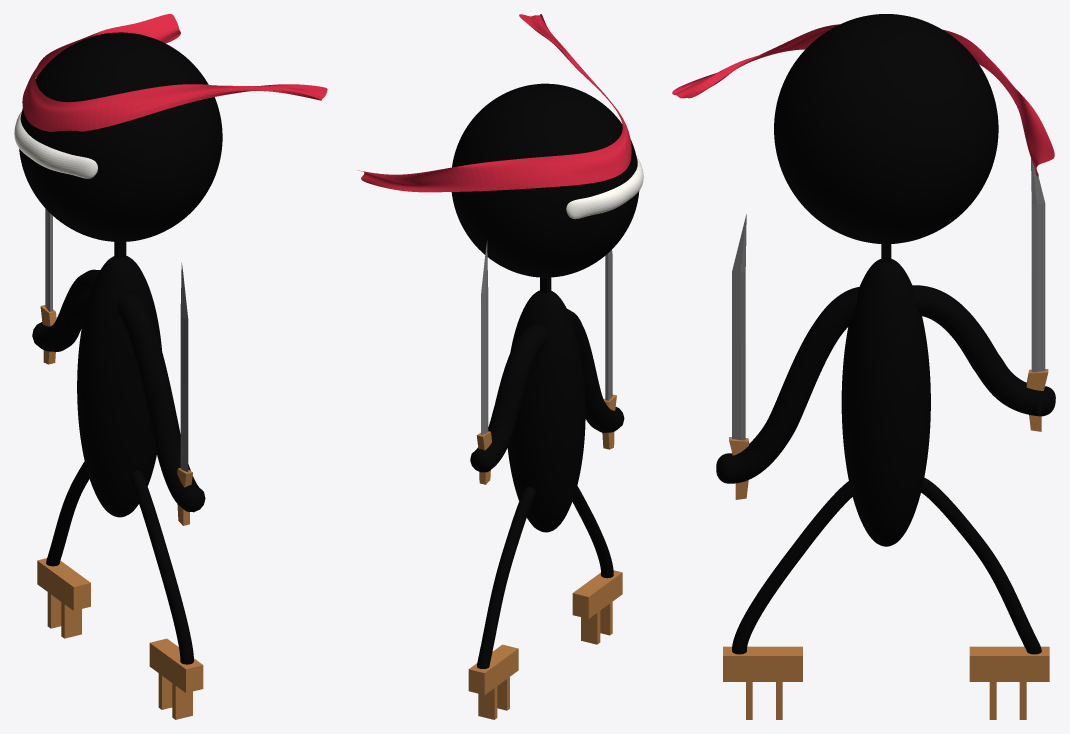
The model's file is enemy6.glb.
The picture shows the model from 3 angles, left to right: view 1: azimuth 30°, elevation 25°; view 2: azimuth 150°, elevation 25°; view 3: azimuth 270°, elevation 25°; orthographic projection. The views are drawn at different scales.
Visible parts, largest first — view 1: Sphere, Sphere.001, BézierCurve, Plane, Cube.002, Cube.001, Cube.006, Cube.003; view 2: Sphere, Sphere.001, BézierCurve, Plane, Cube.002, Cube.001, Cube.003, Cube.006; view 3: Sphere, Sphere.001, BézierCurve, Cube.002, Plane, Cube.003, Cube.006.
Boxes of the visible parts, left/top/right/bottom form: Sphere: left=19, top=32, right=222, bottom=241; Sphere.001: left=77, top=256, right=161, bottom=517; BézierCurve: left=32, top=269, right=205, bottom=664; Plane: left=22, top=14, right=327, bottom=131; Cube.002: left=37, top=558, right=203, bottom=719; Cube.001: left=14, top=111, right=97, bottom=178; Cube.006: left=180, top=263, right=188, bottom=471; Cube.003: left=45, top=208, right=52, bottom=311; Sphere: left=451, top=83, right=639, bottom=277; Sphere.001: left=507, top=290, right=585, bottom=532; BézierCurve: left=470, top=309, right=624, bottom=668; Plane: left=357, top=14, right=631, bottom=192; Cube.002: left=468, top=570, right=622, bottom=719; Cube.001: left=566, top=157, right=643, bottom=219; Cube.003: left=481, top=241, right=488, bottom=434; Cube.006: left=605, top=250, right=612, bottom=400; Sphere: left=774, top=14, right=998, bottom=243; Sphere.001: left=841, top=259, right=930, bottom=546; BézierCurve: left=716, top=285, right=1055, bottom=654; Cube.002: left=723, top=646, right=1049, bottom=719; Plane: left=672, top=24, right=1054, bottom=176; Cube.003: left=1031, top=158, right=1045, bottom=372; Cube.006: left=732, top=214, right=746, bottom=440.
Size of the model in its own units: 0.7367 by 1.99 by 0.9996.
